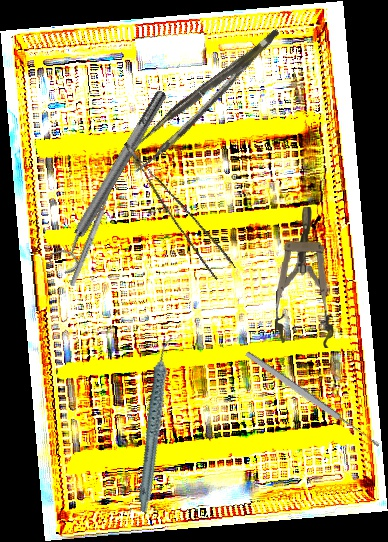Fixation Ring: (44, 84, 178, 278)
Handpiece: (103, 335, 210, 514)
Speculum: (274, 206, 338, 348)
Surgical Spoon: (243, 349, 382, 450), (68, 176, 119, 288)
Tissue Forceps: (116, 28, 295, 174), (124, 127, 236, 285)
